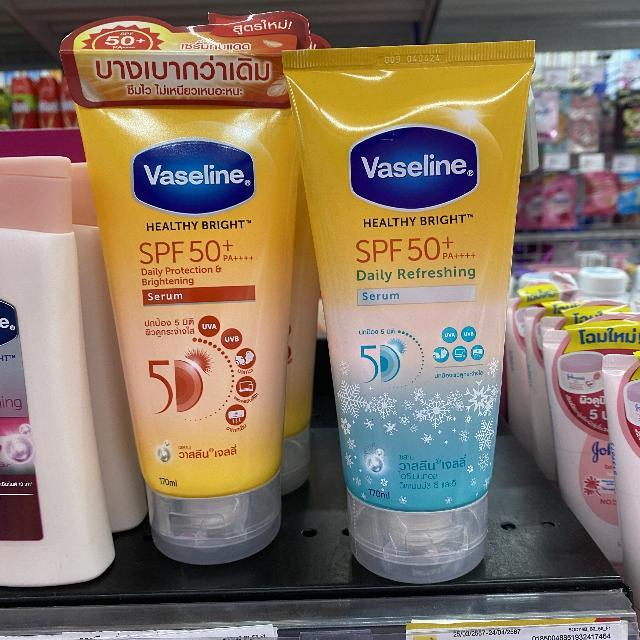Squeeze Tube: (54, 19, 570, 615)
